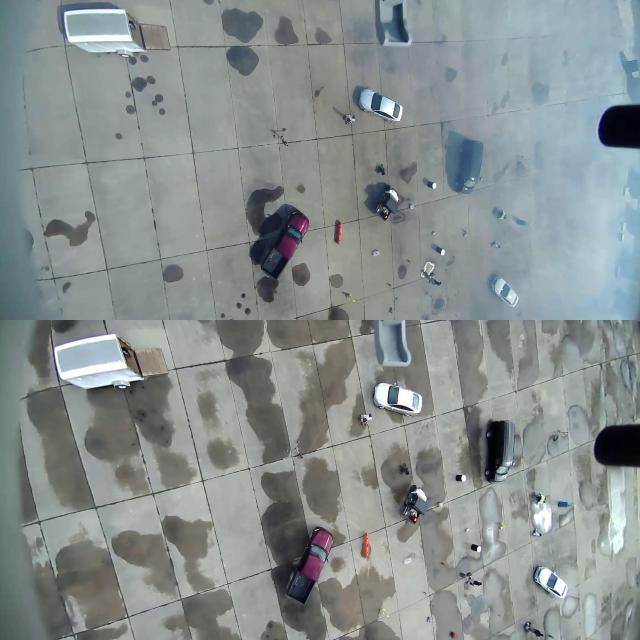apc: (474, 418, 526, 488)
car: (287, 516, 334, 612), (263, 203, 316, 284), (448, 130, 486, 210), (369, 377, 430, 425), (354, 85, 403, 127), (531, 560, 572, 606), (484, 269, 522, 305)
